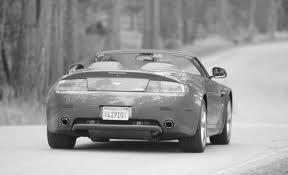car: (43, 44, 236, 156)
